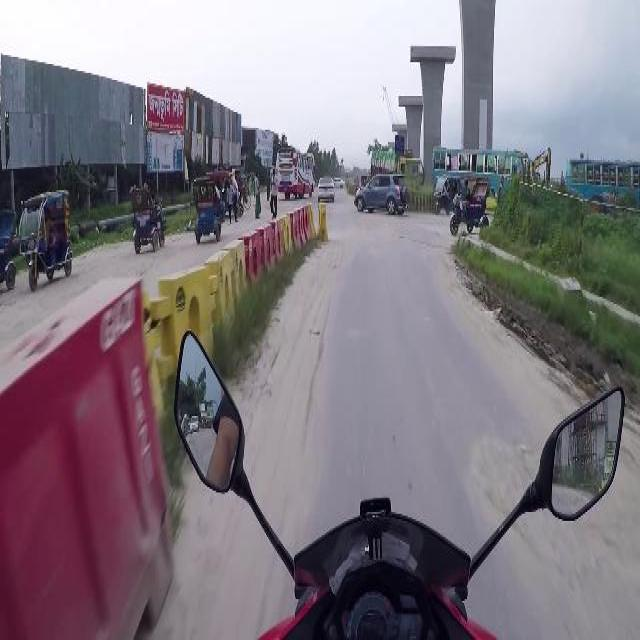10: (172, 333, 626, 638)
13: (128, 181, 164, 249), (192, 173, 222, 243), (450, 177, 488, 232), (2, 208, 16, 290)
18: (370, 149, 424, 185)
5: (353, 173, 409, 215), (318, 174, 334, 199), (332, 175, 344, 188)
Car: (19, 187, 73, 289), (214, 170, 242, 218), (432, 173, 462, 214)
Truck: (432, 145, 528, 200), (564, 156, 640, 210), (275, 143, 315, 198)
